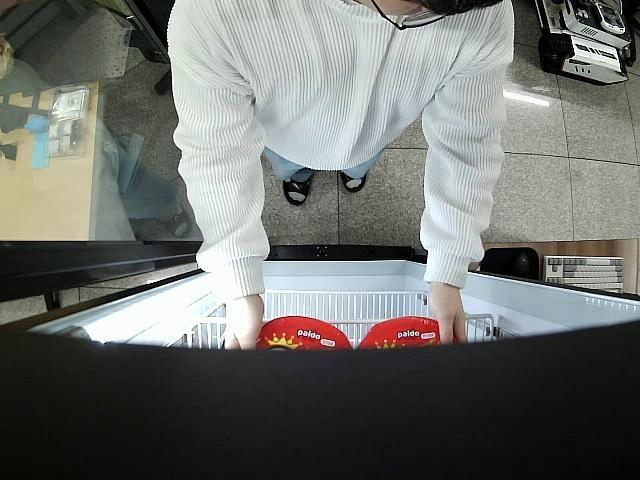10_wangTtukkeong: (246, 314, 352, 354), (352, 317, 444, 352)
